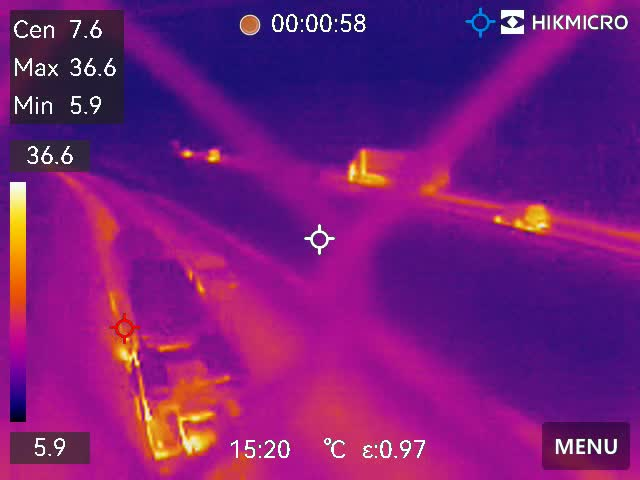heavyTruck: (93, 232, 261, 451), (345, 147, 452, 193)
